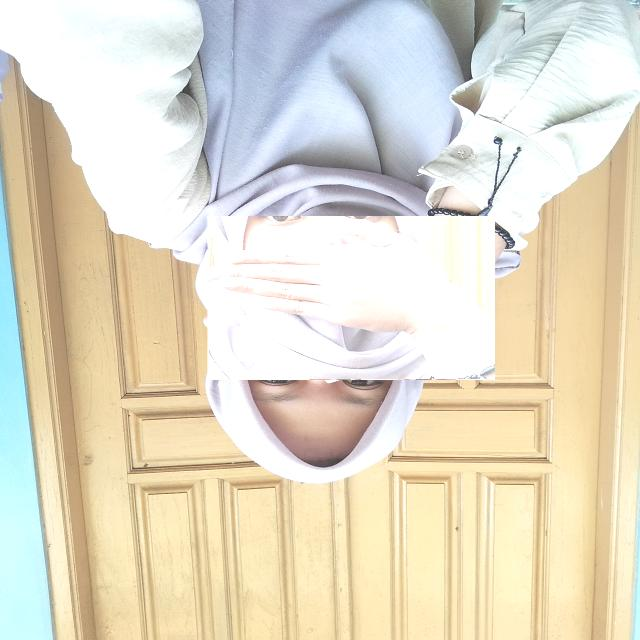buruk: (206, 216, 494, 380)
